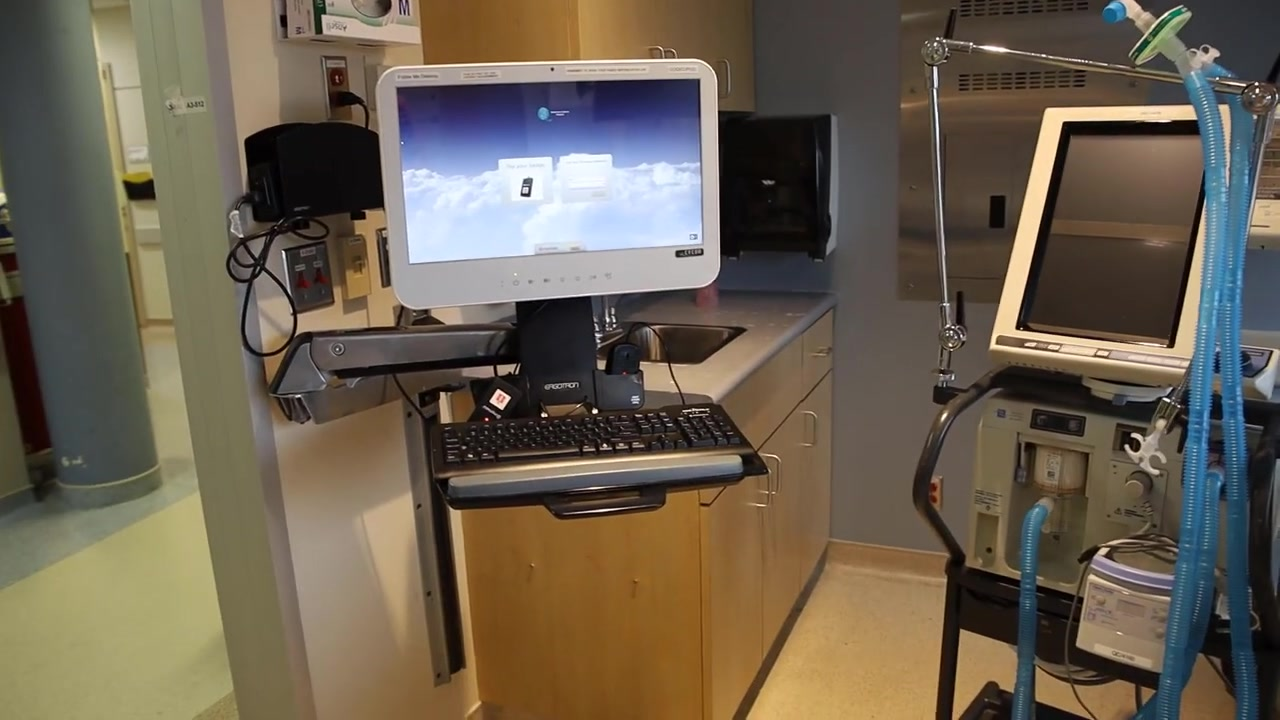breathing_tube: (1010, 1, 1265, 720)
computer: (376, 60, 719, 310)
counter: (441, 293, 835, 720)
countertop: (459, 290, 840, 402)
dispenser: (719, 115, 841, 263), (281, 1, 421, 46)
faucet: (591, 300, 623, 340)
handle: (713, 54, 736, 103), (764, 450, 785, 496), (754, 475, 774, 506), (644, 44, 684, 58), (805, 410, 819, 448), (810, 343, 833, 360)
keyboard: (428, 401, 756, 483)
sink: (595, 324, 745, 364)
ventilator: (966, 101, 1280, 674)
